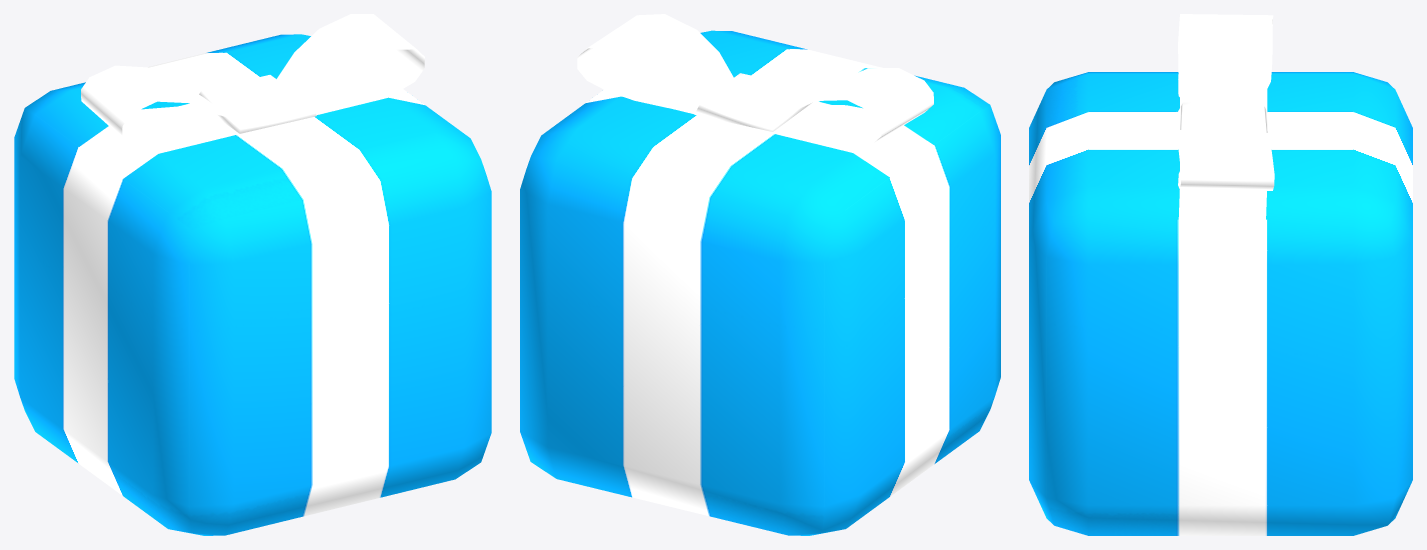
Rendered from blue_gift.glb.
3 views of the same model, side by side, from view 1: azimuth 30°, elevation 25°; view 2: azimuth 150°, elevation 25°; view 3: azimuth 270°, elevation 25° (orthographic).
Visible parts, largest first — view 1: Blue_Gift; view 2: Blue_Gift; view 3: Blue_Gift.
Part boxes in pixels (x1,y1,x2,y2): Blue_Gift: (14,14,491,535); Blue_Gift: (520,14,1000,535); Blue_Gift: (1029,14,1412,535).
Bounding box in the file's own units: 0.4562 × 0.5279 × 0.4562.
Materials: 1 (1 with a texture image).
